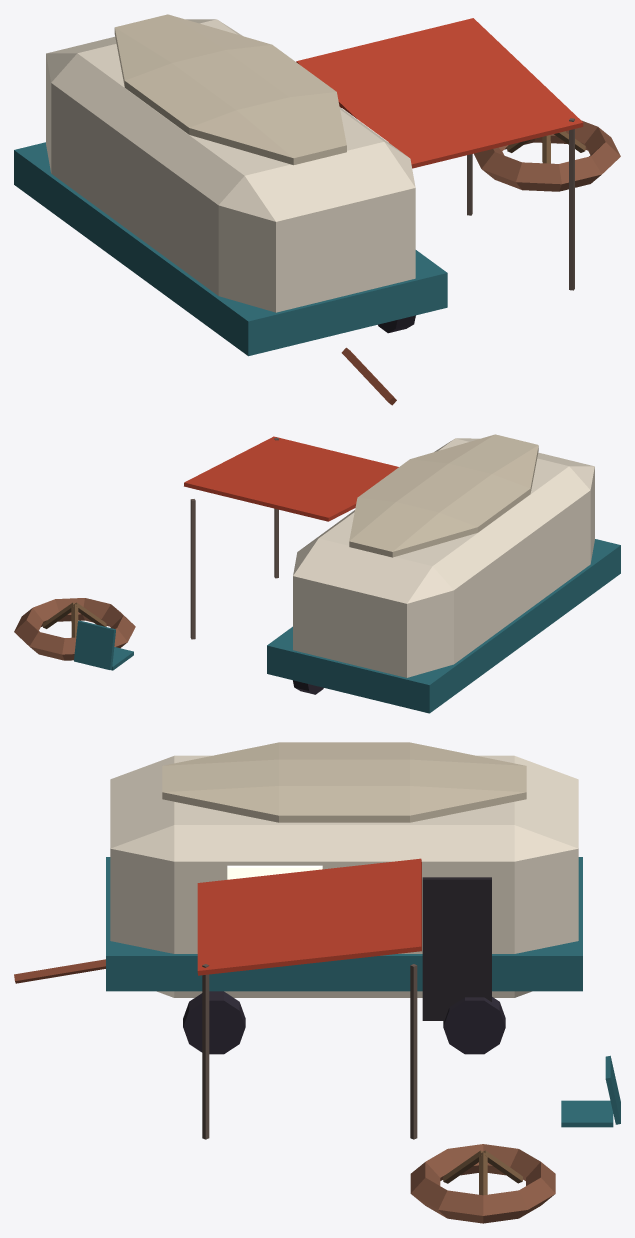
The model's file is camp.glb.
The picture shows the model from 3 angles, top to bottom: view 1: azimuth 30°, elevation 25°; view 2: azimuth 150°, elevation 25°; view 3: azimuth 270°, elevation 25°; orthographic projection. The views are drawn at different scales.
Visible parts, largest first — view 1: camp; view 2: camp; view 3: camp.
Boxes of the visible parts, <box> form: camp: <box>14,14,620,405</box>; camp: <box>14,434,620,713</box>; camp: <box>14,742,620,1223</box>.
Size of the model in its own units: 7.43 by 2.98 by 7.
